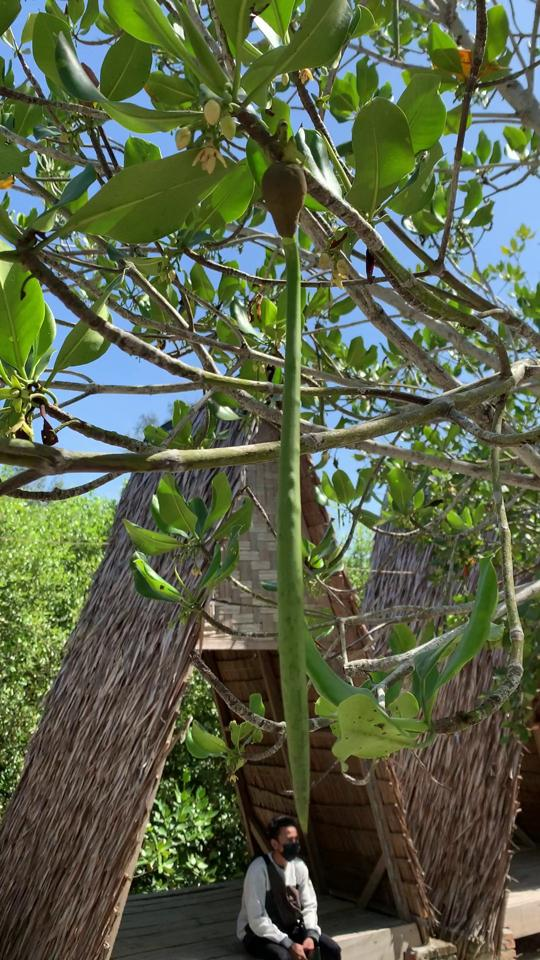setengah matang: (251, 140, 328, 841)
